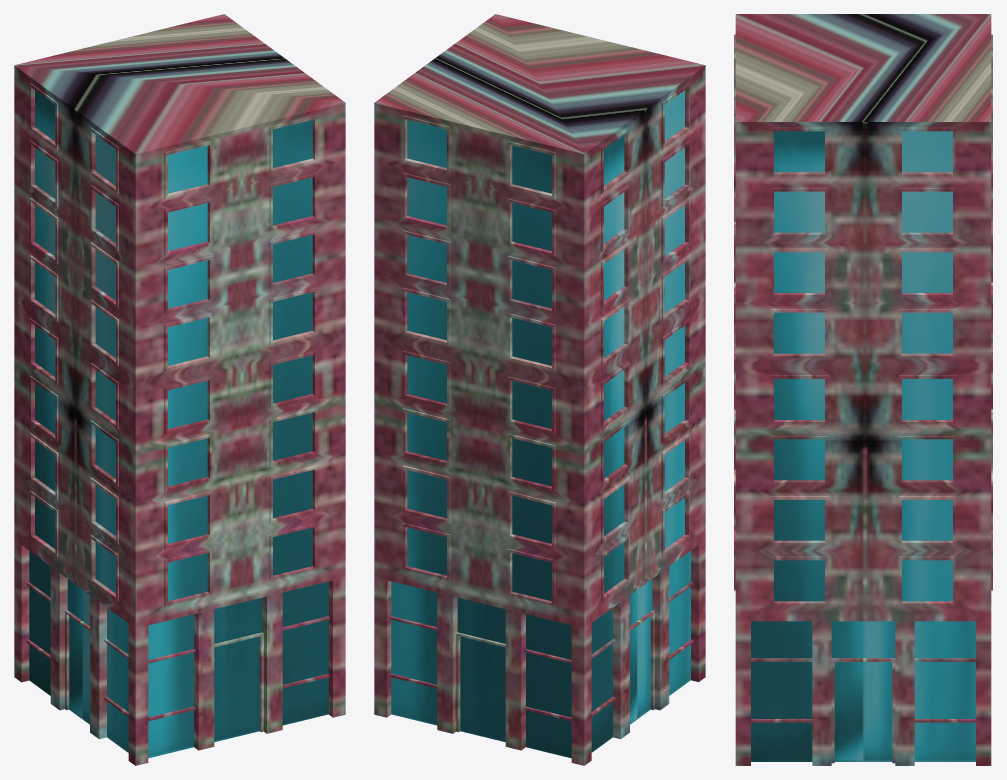
Rendered from aidbuil1.fbx.
The picture shows the model from 3 angles, left to right: view 1: azimuth 30°, elevation 25°; view 2: azimuth 150°, elevation 25°; view 3: azimuth 270°, elevation 25°; orthographic projection. The views are drawn at different scales.
Visible parts, largest first — view 1: aiden1; view 2: aiden1; view 3: aiden1.
Part boxes in pixels (x1,y1,x2,y2): aiden1: (14,14,345,765); aiden1: (374,14,705,765); aiden1: (734,14,992,765).
Size of the model in its own units: 48.56 by 133 by 48.56.
